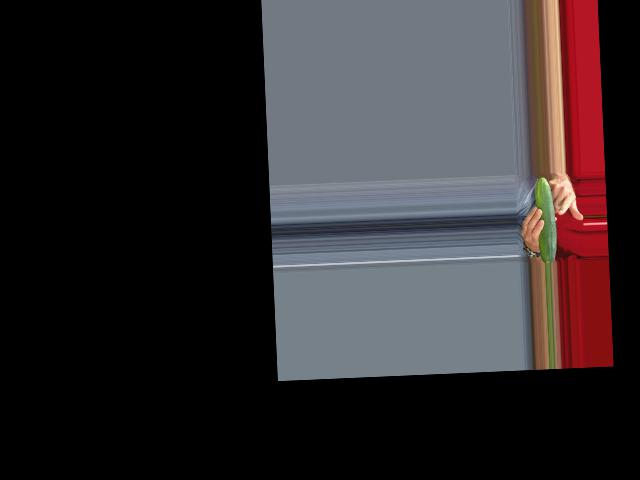cucumber: (533, 177, 557, 263)
